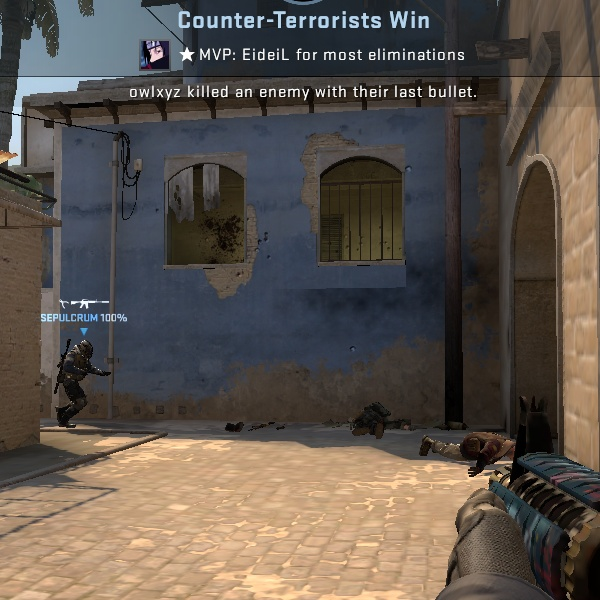ct_body: (56, 334, 105, 425)
ct_head: (74, 337, 98, 363)
